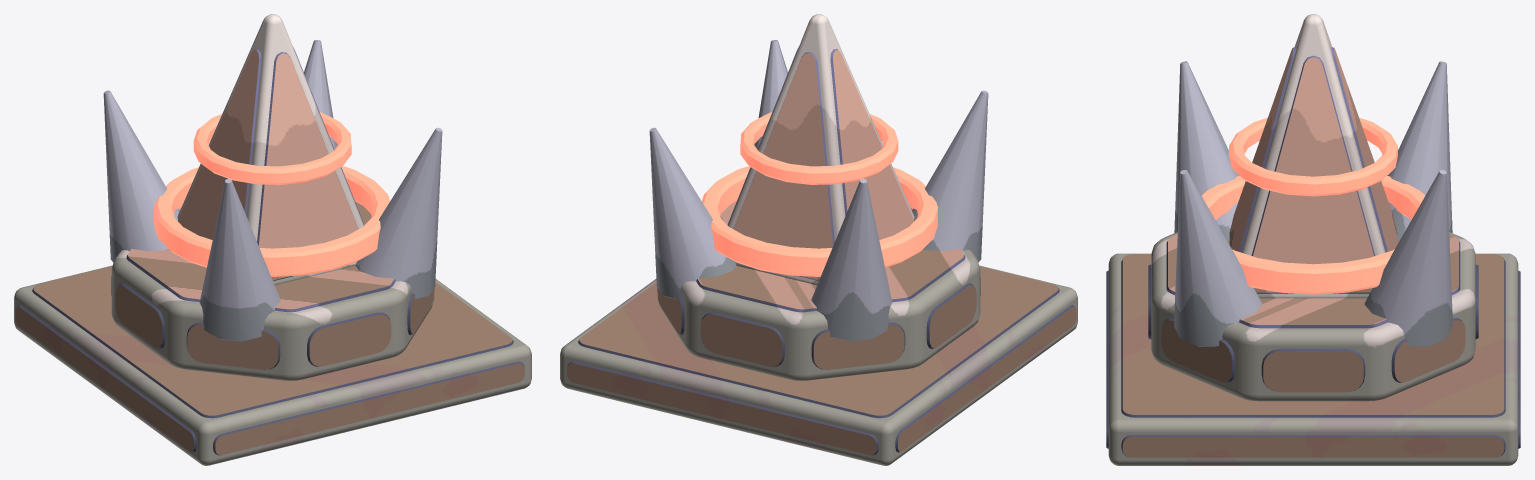
The model's file is R4X_DamageBooster.glb.
3 renders of one model, left to right at view 1: azimuth 30°, elevation 25°; view 2: azimuth 150°, elevation 25°; view 3: azimuth 270°, elevation 25°, orthographic. The views are drawn at different scales.
Parts seen in each view (by area): view 1: R4X_DamageBooster_Body; view 2: R4X_DamageBooster_Body; view 3: R4X_DamageBooster_Body.
Boxes of the visible parts, box(x1,y1,x2,y2) form: R4X_DamageBooster_Body: box(14, 14, 531, 465); R4X_DamageBooster_Body: box(560, 14, 1077, 465); R4X_DamageBooster_Body: box(1106, 14, 1520, 465).
Bounding box in the file's own units: 0.52 × 0.512 × 0.52.
5 materials, 4 textured.
